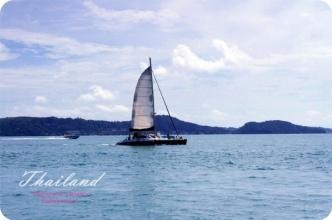fanchuan: (115, 59, 188, 148)
